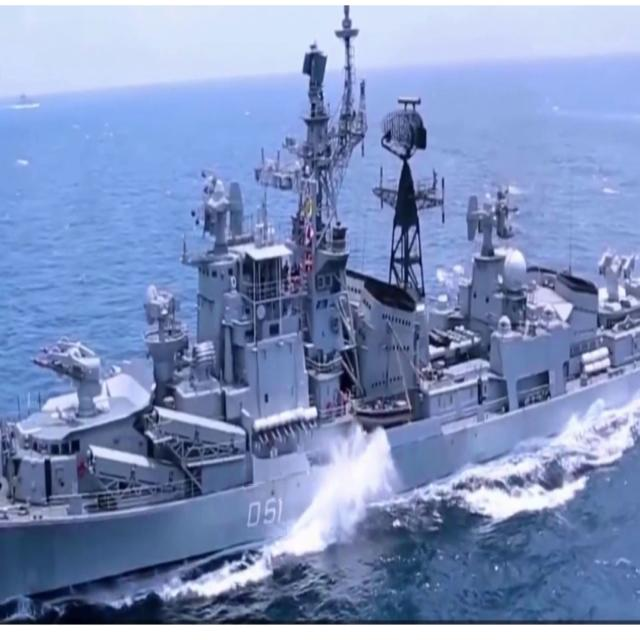OCR: (236, 484, 287, 536)
